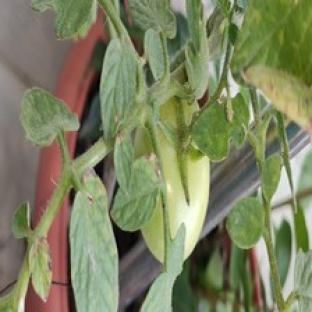Tomato: (158, 130, 210, 259)
